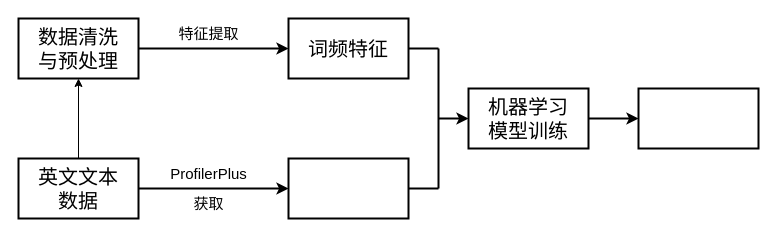
This 776x236 diagram has some shape labels left out. The shapes that lost their labels are listed below. From the top down, each one's centre as x and y in pixels, then its label:
(698,118): 交叉验证 性能评估
(348,188): 数据标注
